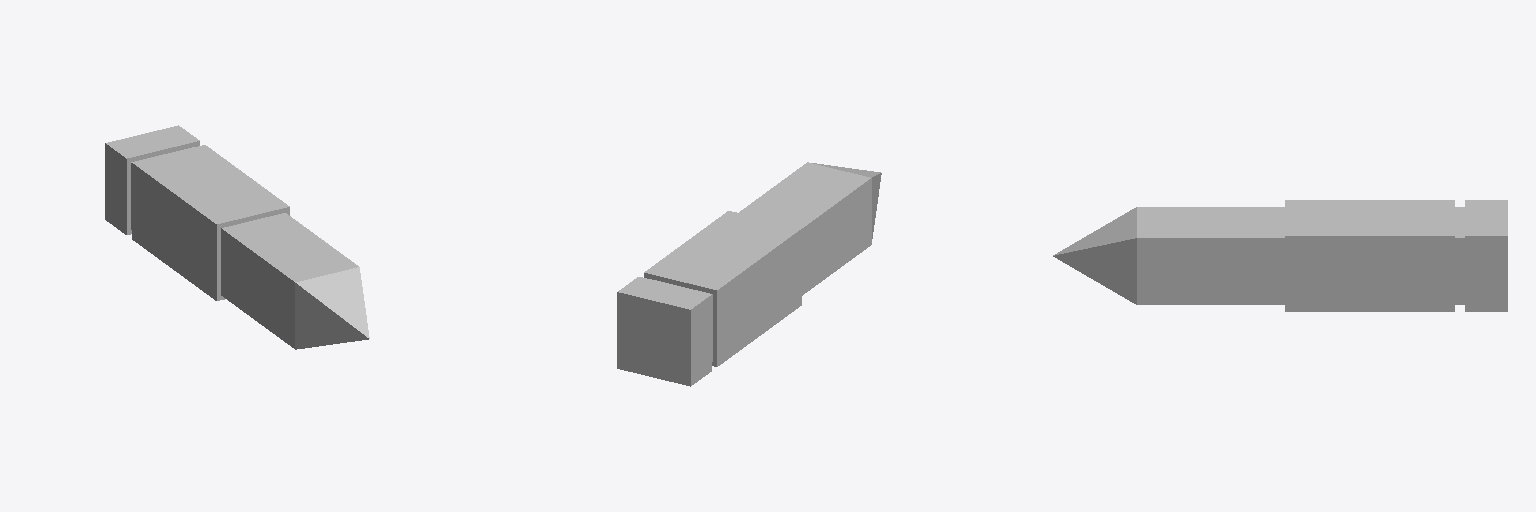
Rendered from 120mmhe.obj.
3 renders of one model, left to right at view 1: azimuth 30°, elevation 25°; view 2: azimuth 150°, elevation 25°; view 3: azimuth 270°, elevation 25°, orthographic.
Visible parts, largest first — view 1: cube3, cube, pyramid, cube1; view 2: cube3, cube, cube1, pyramid; view 3: cube3, cube, cube1, pyramid, cube2.
Part boxes in pixels (bbox=[...]): cube3: bbox=[132, 145, 289, 300]; cube: bbox=[221, 213, 358, 348]; pyramid: bbox=[295, 267, 369, 349]; cube1: bbox=[105, 125, 199, 234]; cube3: bbox=[644, 211, 801, 366]; cube: bbox=[739, 162, 871, 295]; cube1: bbox=[617, 277, 711, 386]; pyramid: bbox=[813, 163, 881, 238]; cube3: bbox=[1285, 200, 1454, 311]; cube: bbox=[1137, 207, 1284, 304]; cube1: bbox=[1465, 200, 1507, 311]; pyramid: bbox=[1053, 207, 1136, 304]; cube2: bbox=[1455, 207, 1464, 304].
Size of the model in its own units: 0.25 by 0.25 by 1.34.